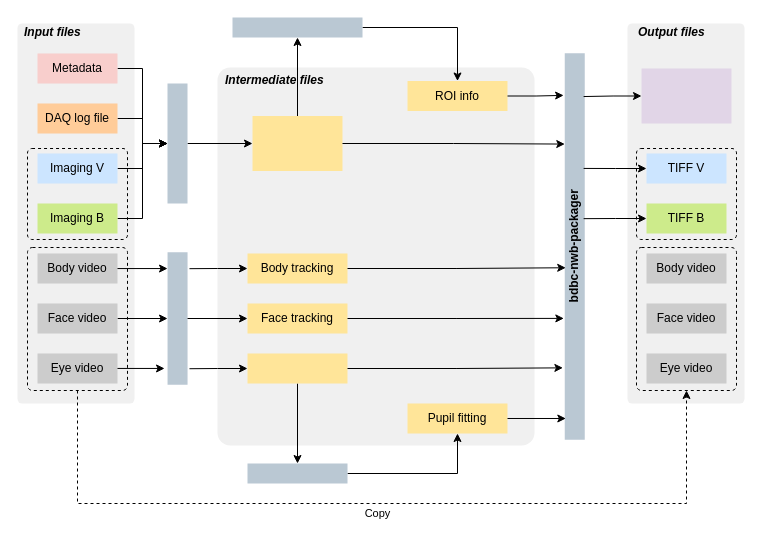
This 761x537 diagram has some shape labels left out. Each missing label, with the centre of its shape:
bdbc-atlas-registration: point (297, 27)
DeepLabCut: point (177, 318)
Eye tracking: point (297, 368)
ks-pupilfitting: point (297, 473)
MATLAB: point (177, 143)
NWB file (HDF5): point (686, 95)
Raw-data HDF file: point (297, 143)
